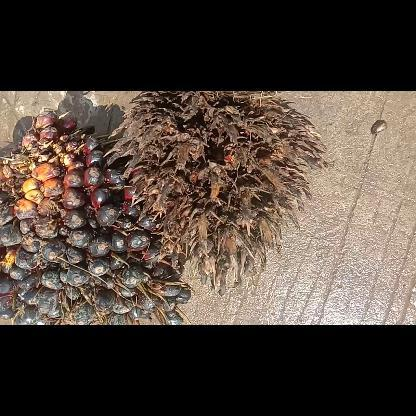Janjang kosong: (103, 91, 324, 294)
TBS mentah: (0, 110, 194, 324)
